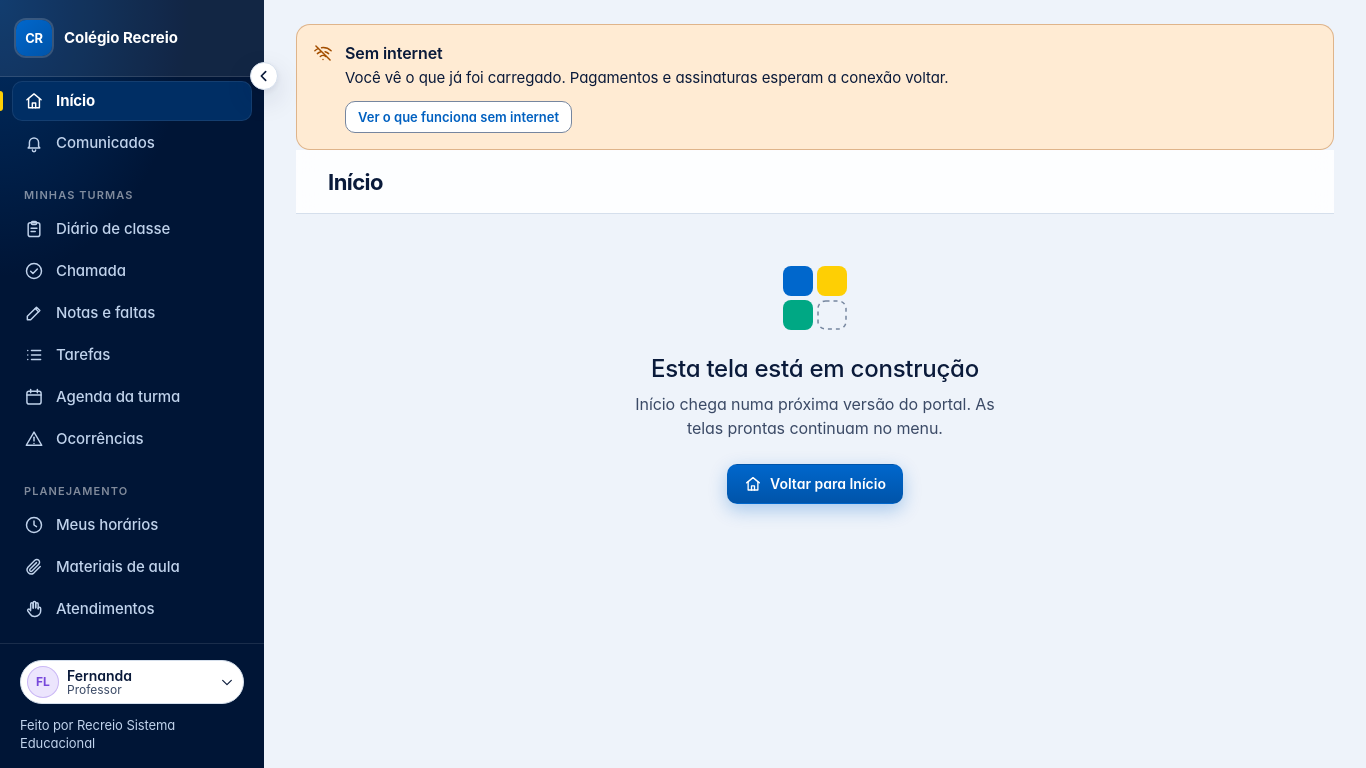
Test: PerfilLayout › sem internet, avisa no topo e leva à tela do modo sem internet
Expected: the text "Sem internet" is shown, left=345, top=43, right=443, bottom=63
What coordinates should you click on to do the following:
click the button "Ver o que funciona sem internet"
I would click on:
 (459, 117)
Its box is left=345, top=101, right=572, bottom=133.
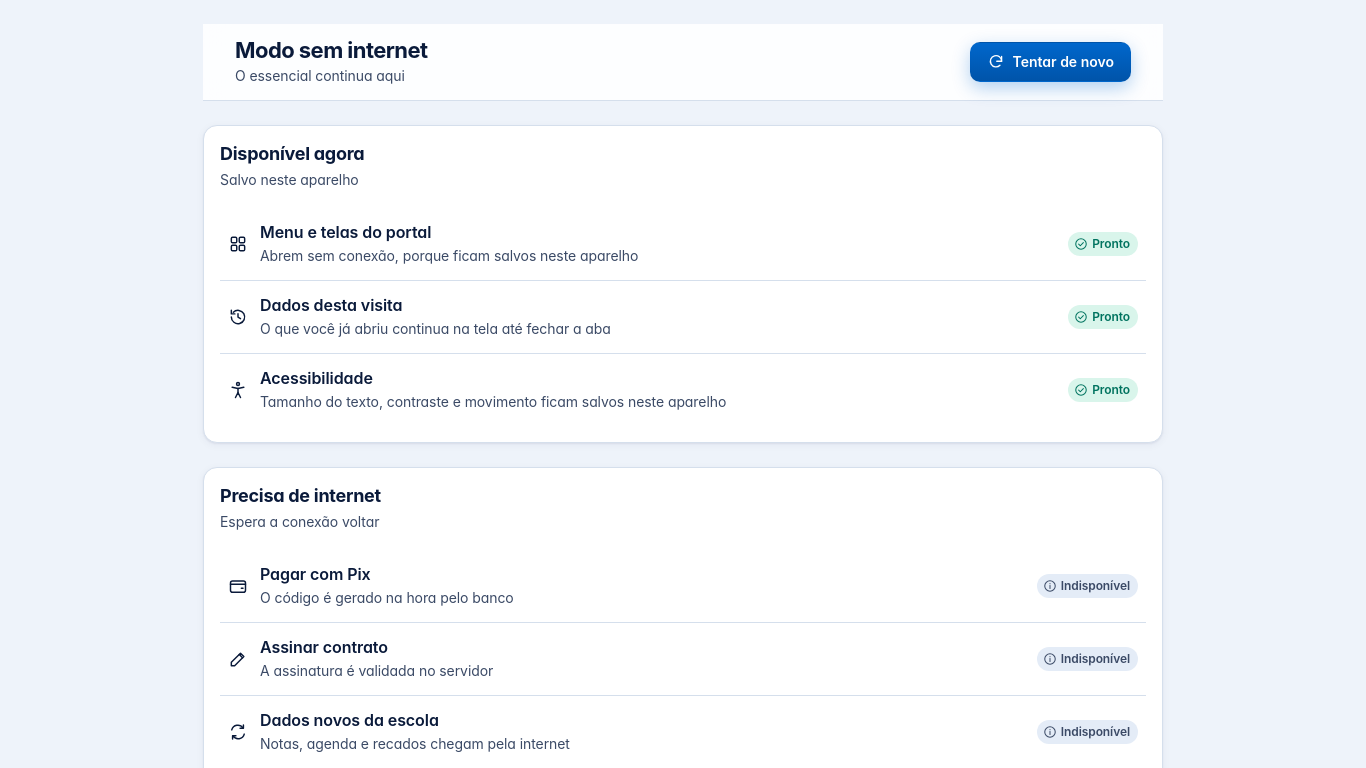
Expected: the heading "Modo sem internet" is shown, left=235, top=36, right=428, bottom=64
